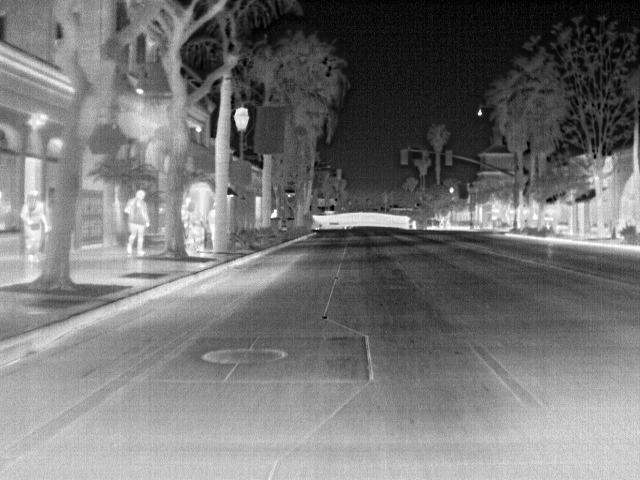person: (22, 188, 52, 268), (123, 184, 154, 257), (206, 200, 220, 249)
